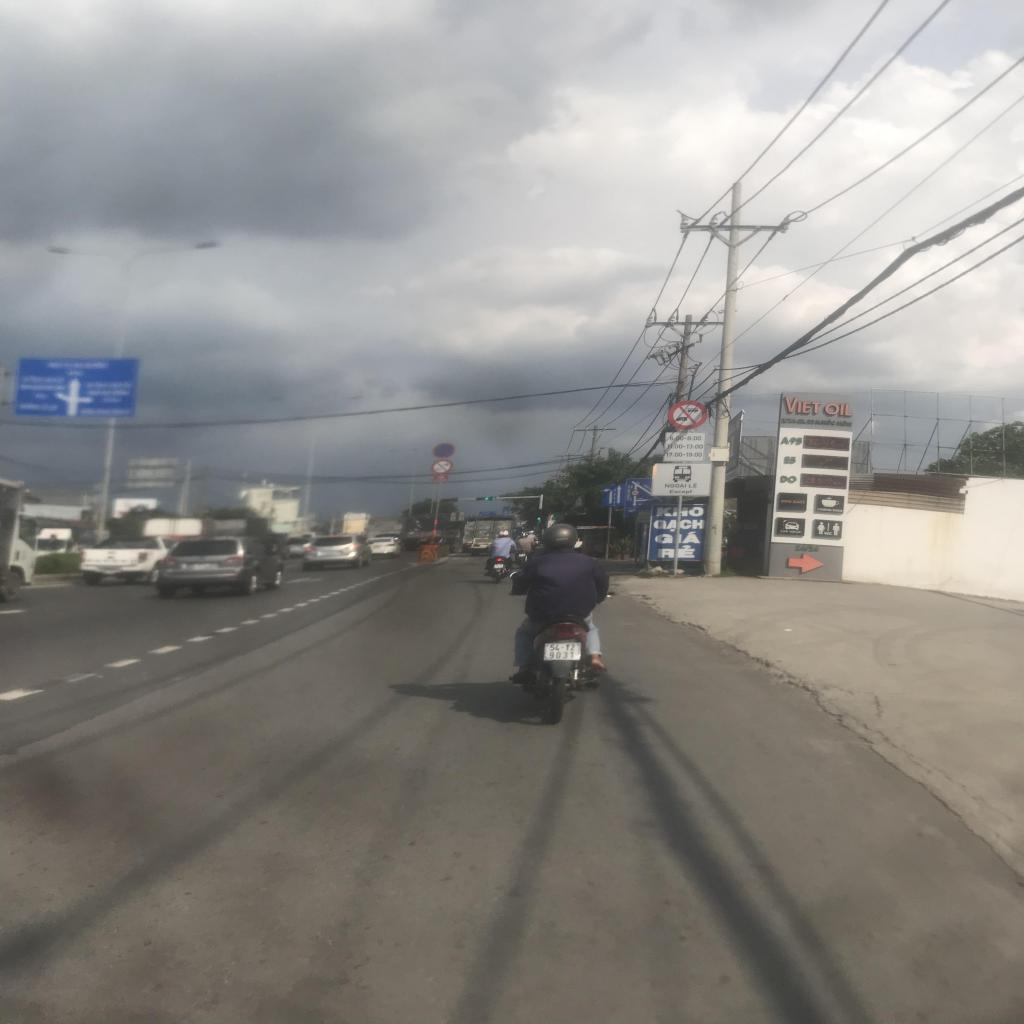cam_dung_xe_va_do_xe: (432, 442, 456, 459)
cam_o_to_tai_va_xe_khach: (667, 400, 708, 430)
cam_xe_2_banh_va_xe_3_banh_co_dong_co: (432, 460, 454, 474)
huong_di_tren_moi_lan_duong_theo_vach_ke_duong: (602, 485, 625, 506)
khac: (16, 356, 138, 418), (652, 464, 712, 496), (624, 478, 670, 518), (663, 433, 704, 462)
